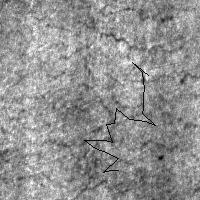crazing: (84, 62, 155, 172), (1, 81, 117, 146), (83, 6, 178, 57), (91, 110, 199, 152), (106, 68, 200, 108)
